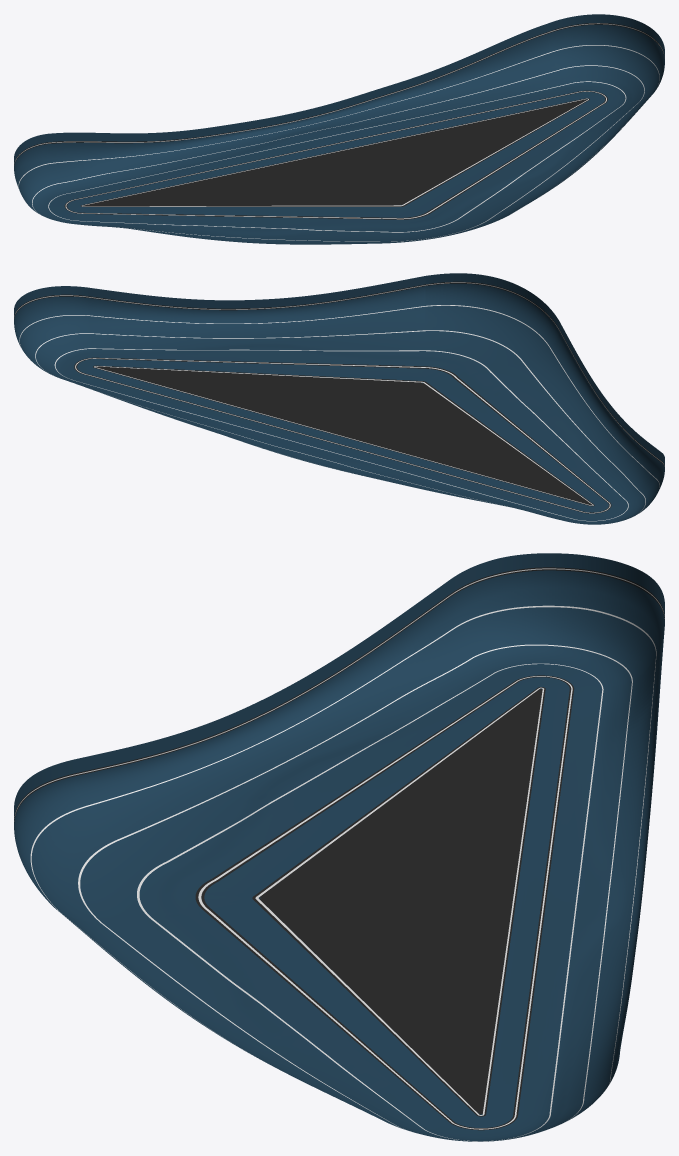
3 views of the same model, one above another, from view 1: azimuth 30°, elevation 25°; view 2: azimuth 150°, elevation 25°; view 3: azimuth 270°, elevation 25° (orthographic). The views are drawn at different scales.
Visible parts, largest first — view 1: Sphere.002; view 2: Sphere.002; view 3: Sphere.002.
Boxes of the visible parts, x1,y1,x2,y2 form: Sphere.002: (14, 14, 664, 244); Sphere.002: (14, 273, 664, 524); Sphere.002: (14, 553, 664, 1141).
Size of the model in its own units: 513 by 43.45 by 263.
